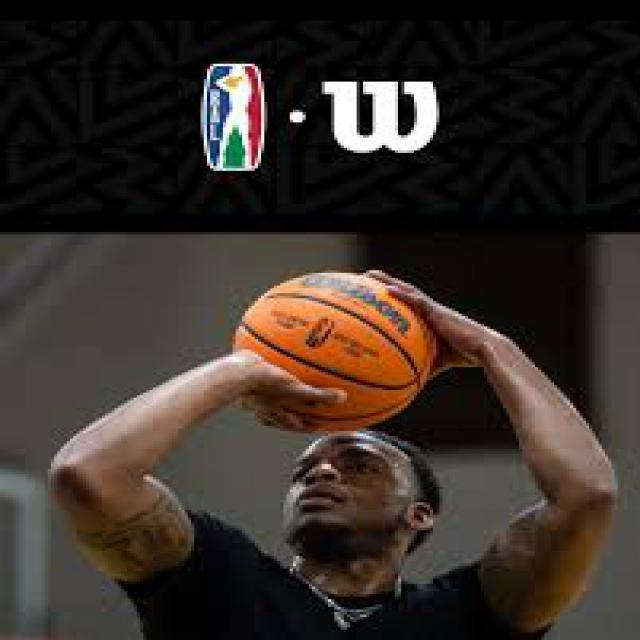basketball: (232, 271, 433, 434)
